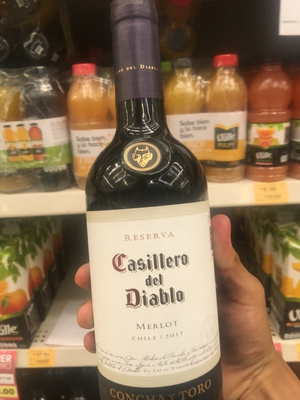casillero del diablo merlot: (73, 3, 230, 400)
